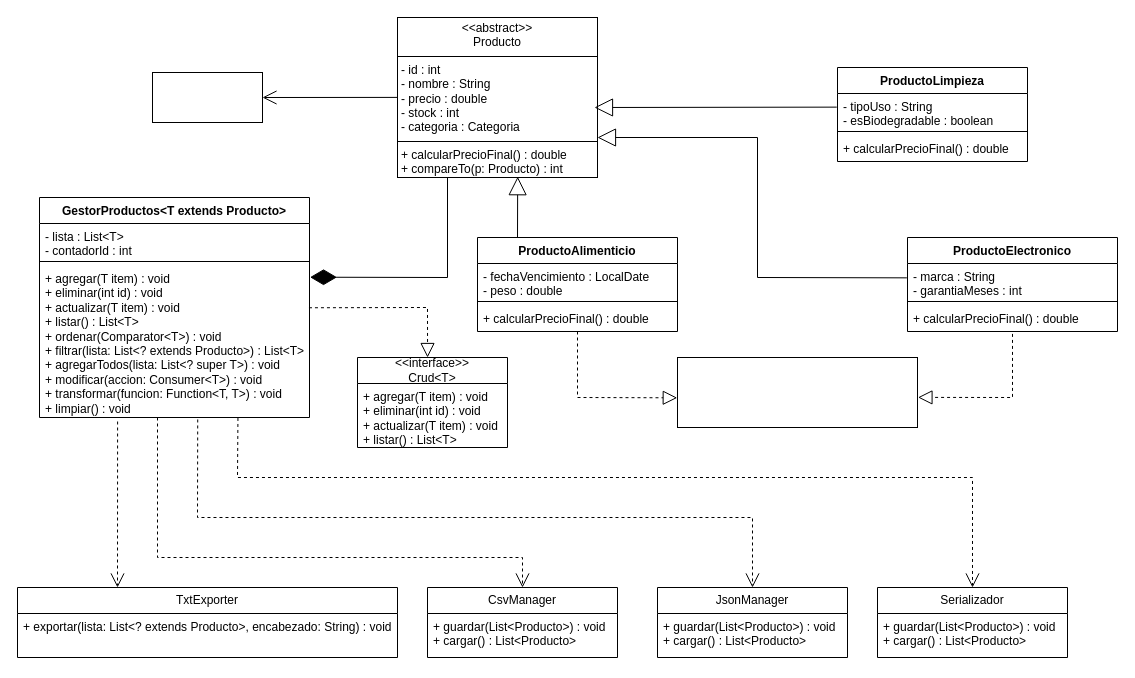
This 1135x678 diagram has some shape labels left out. The centre of each missing label's shape, as x and y in pixels:
"<<enum>> Categoria" belongs at (207,97).
"<<interface>> Descontable + aplicarDescuento(double porcentaje) : void" belongs at (797,392).
